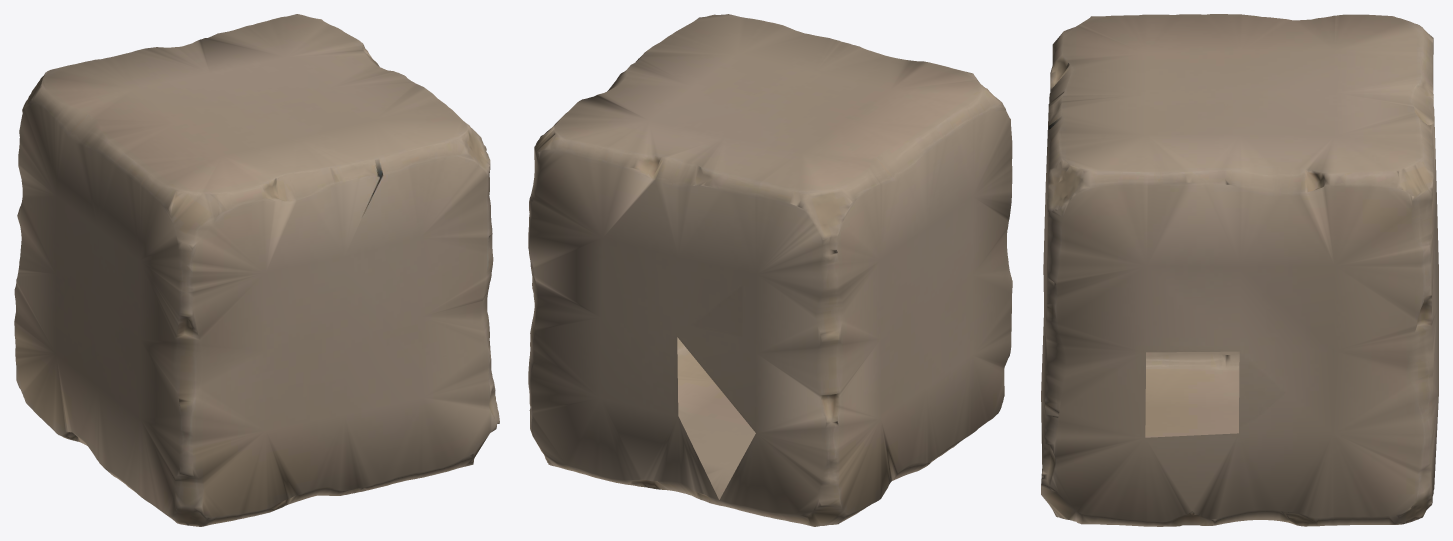
The model's file is original_glb.glb.
The picture shows the model from 3 angles, left to right: view 1: azimuth 30°, elevation 25°; view 2: azimuth 150°, elevation 25°; view 3: azimuth 270°, elevation 25°; orthographic projection. The views are drawn at different scales.
Visible parts, largest first — view 1: tile-4-limestone; view 2: tile-4-limestone; view 3: tile-4-limestone.
Boxes of the visible parts, x1,y1,x2,y2 form: tile-4-limestone: [14, 14, 499, 526]; tile-4-limestone: [528, 14, 1012, 526]; tile-4-limestone: [1041, 14, 1438, 526].
Size of the model in its own units: 0.9941 by 0.9863 by 0.998.
Materials: 1 (1 with a texture image).
